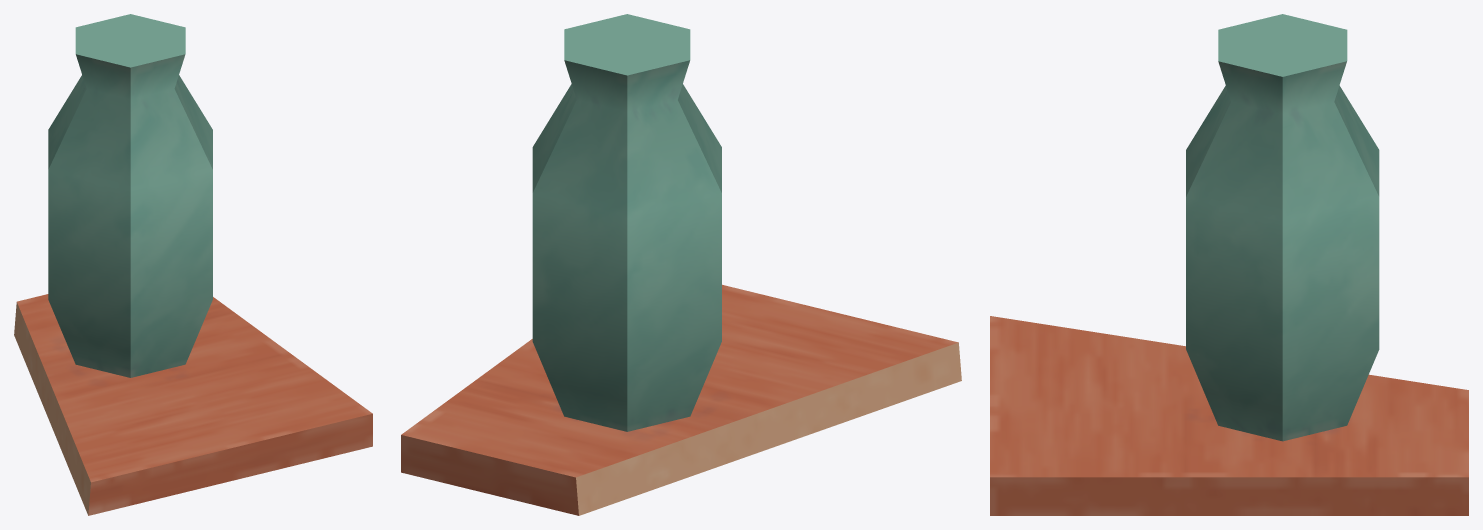
The model's file is pot_rack_s03.fbx.
The picture shows the model from 3 angles, left to right: view 1: azimuth 30°, elevation 25°; view 2: azimuth 150°, elevation 25°; view 3: azimuth 270°, elevation 25°; orthographic projection. The views are drawn at different scales.
Parts seen in each view (by area): view 1: pot_rack_s03; view 2: pot_rack_s03; view 3: pot_rack_s03.
Part boxes in pixels (x1,y1,x2,y2): pot_rack_s03: (14, 14, 372, 515); pot_rack_s03: (401, 14, 961, 515); pot_rack_s03: (990, 14, 1468, 515).
Bounding box in the file's own units: 1.45 × 1.67 × 1.8.
